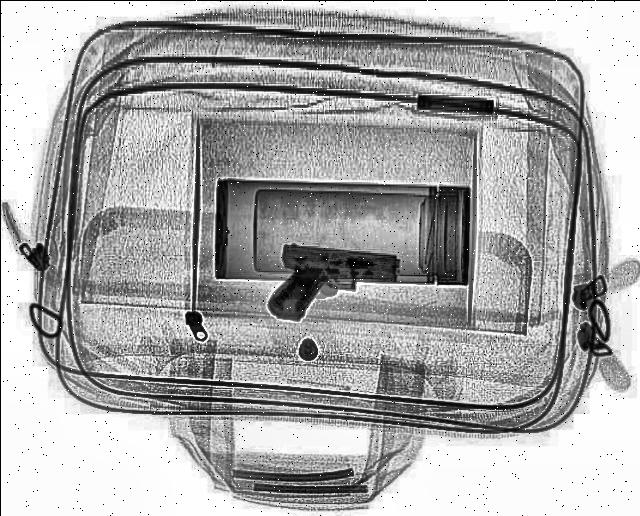Gun: (263, 244, 401, 326)
